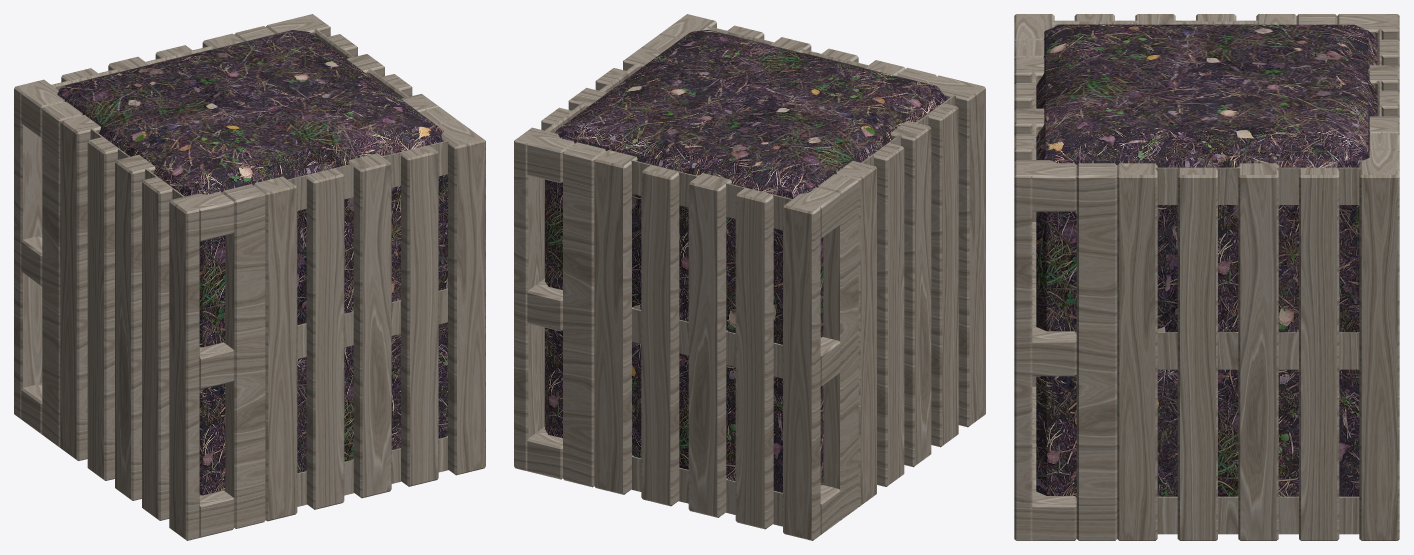
Rendered from composte.FBX.
The picture shows the model from 3 angles, left to right: view 1: azimuth 30°, elevation 25°; view 2: azimuth 150°, elevation 25°; view 3: azimuth 270°, elevation 25°; orthographic projection. The views are drawn at different scales.
Visible parts, largest first — view 1: Palette, Palette001, Box001, Palette003, Palette002; view 2: Palette003, Box001, Palette001, Palette002, Palette; view 3: Palette002, Box001, Palette, Palette003, Palette001.
Boxes of the visible parts, left/top/right/bottom form: Palette: left=254, top=107, right=485, bottom=521; Palette001: left=60, top=115, right=265, bottom=540; Box001: left=57, top=30, right=447, bottom=495; Palette003: left=14, top=33, right=243, bottom=447; Palette002: left=234, top=14, right=438, bottom=111; Palette003: left=594, top=150, right=858, bottom=540; Box001: left=545, top=30, right=947, bottom=492; Palette001: left=836, top=67, right=985, bottom=506; Palette002: left=514, top=48, right=661, bottom=487; Palette: left=641, top=14, right=905, bottom=75; Palette002: left=1117, top=133, right=1399, bottom=540; Box001: left=1036, top=24, right=1377, bottom=497; Palette: left=1014, top=57, right=1117, bottom=540; Palette003: left=1296, top=14, right=1399, bottom=134; Palette001: left=1014, top=14, right=1296, bottom=386.
Size of the model in its own units: 37.6 by 40.97 by 37.6.
2 materials, 2 textured.
